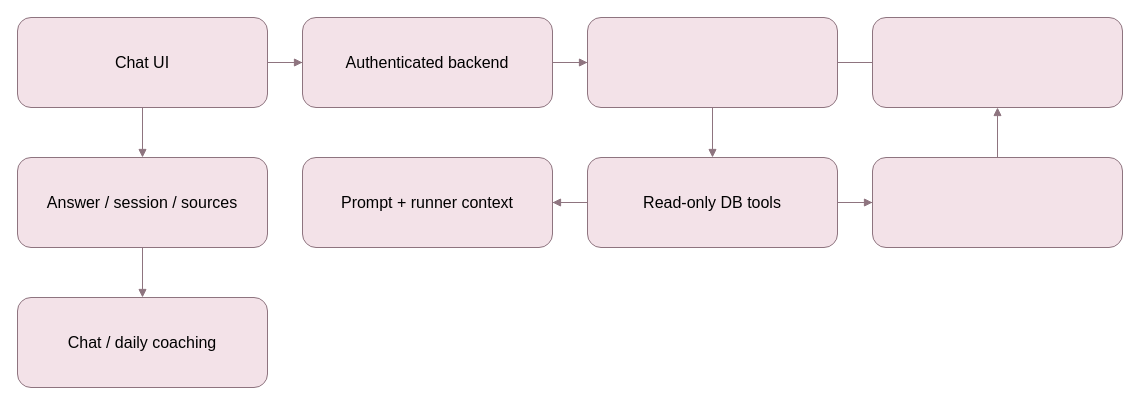
Some shapes in this 1140 by 405 pixel diagram are drawn without their labels. The shapes that lost their labels are listed below. From the top down, each one's box as (x1, y1, x2, y2) in pixels, then its label:
(586, 16, 838, 108): FastAPI / guardrails
(872, 16, 1122, 108): Bedrock Knowledge Base
(872, 156, 1122, 248): PostgreSQL
